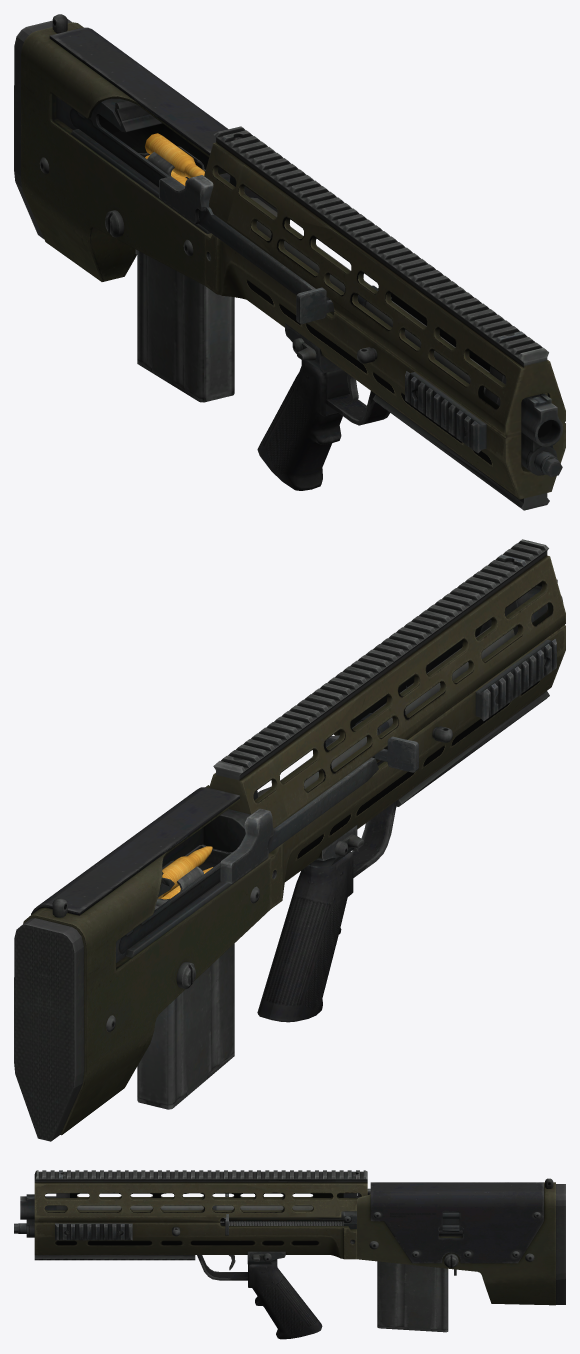
Rendered from bulldog.FBX.
3 renders of one model, top to bottom at view 1: azimuth 30°, elevation 25°; view 2: azimuth 150°, elevation 25°; view 3: azimuth 270°, elevation 25°, orthographic. The views are drawn at different scales.
Visible parts, largest first — view 1: bulldog, mag, bolt, bullets; view 2: bulldog, mag, bolt, bullets; view 3: bulldog, mag.
Boxes of the visible parts, x1,y1,x2,y2 form: bulldog: [14, 14, 565, 510]; mag: [137, 146, 234, 402]; bolt: [159, 175, 378, 324]; bullets: [145, 133, 204, 185]; bulldog: [14, 539, 565, 1141]; mag: [137, 844, 234, 1109]; bolt: [220, 735, 418, 883]; bullets: [158, 846, 212, 899]; bulldog: [14, 1170, 565, 1339]; mag: [377, 1261, 448, 1332].
Size of the model in its own units: 4.36 by 7.75 by 23.81.
Materials: 2 (2 with a texture image).
